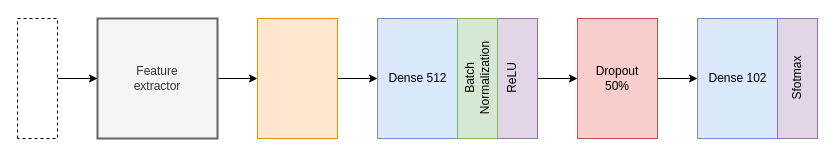
Image size: 835x156. Some labels were removed from this diagram. The centre of each missing label's shape, as x and y in pixels:
Global Average Pooling: the point at 297,78
Preprocessing: the point at 37,78
